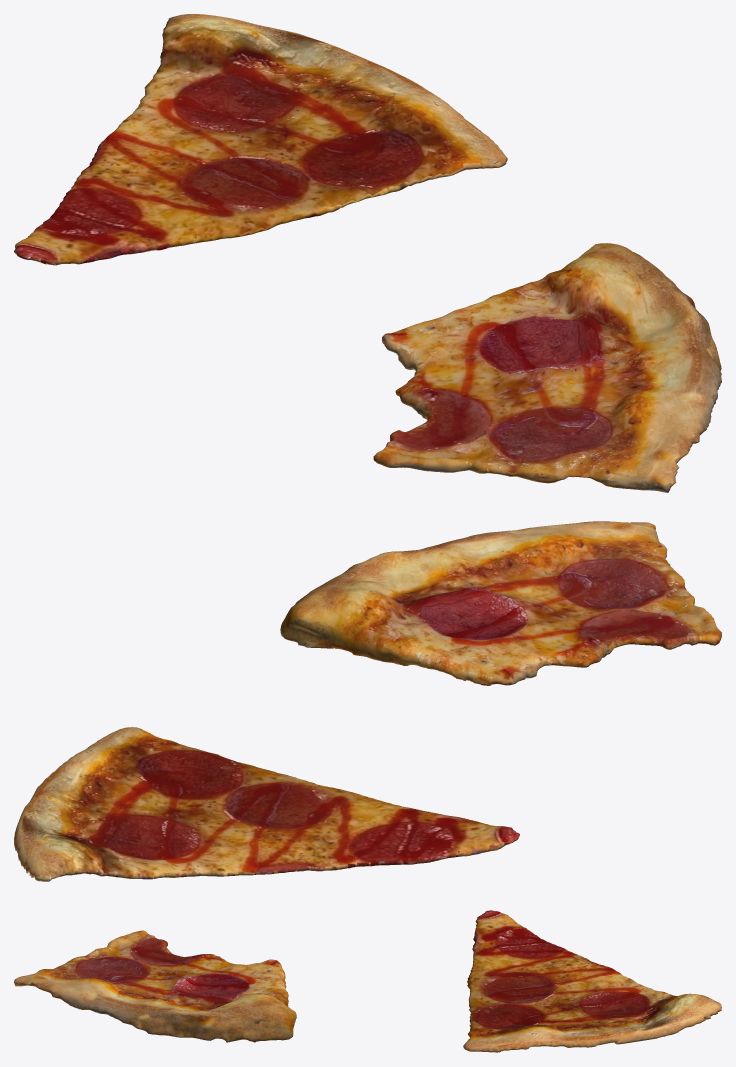
File: bitten_pizza.glb
3 views of the same model, one above another, from view 1: azimuth 30°, elevation 25°; view 2: azimuth 150°, elevation 25°; view 3: azimuth 270°, elevation 25° (orthographic). The views are drawn at different scales.
Parts seen in each view (by area): view 1: WholeMesh, BittenMesh; view 2: BittenMesh, WholeMesh; view 3: WholeMesh, BittenMesh.
Boxes of the visible parts, x1,y1,x2,y2 form: WholeMesh: (14,14,507,265); BittenMesh: (373,243,721,492); BittenMesh: (280,521,721,685); WholeMesh: (14,727,519,881); WholeMesh: (463,910,721,1052); BittenMesh: (14,930,296,1042).
Size of the model in its own units: 0.2069 by 0.026 by 0.4487.
Materials: 2 (2 with a texture image).
